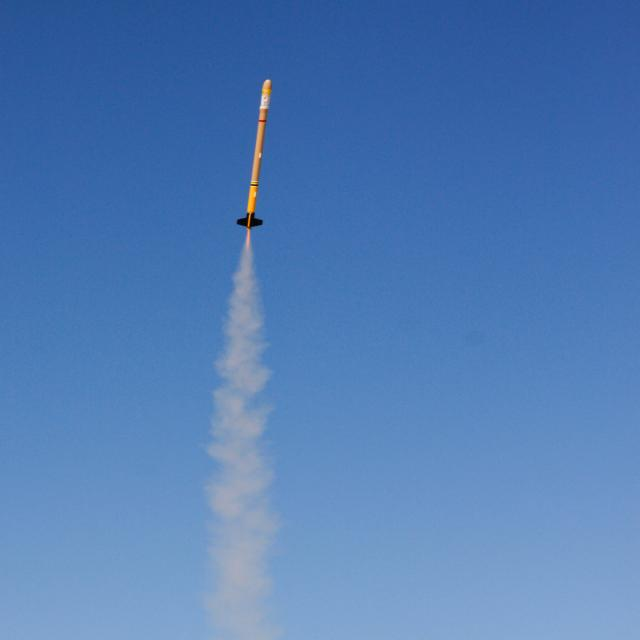Rocket: (236, 79, 276, 231)
